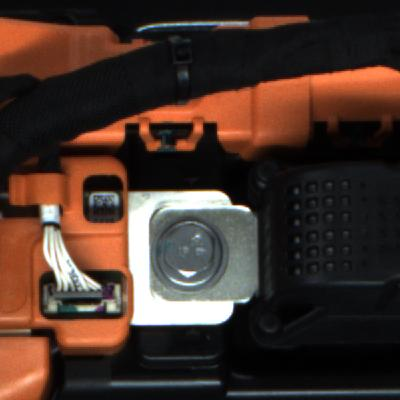nut_b: (144, 210, 240, 300)
